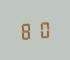eight: (19, 21, 34, 40)
zero: (35, 19, 50, 38)
